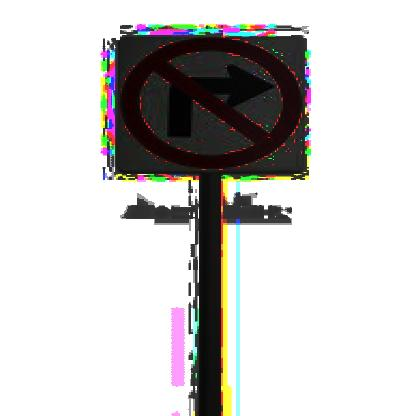No right turn: (119, 41, 302, 170)
